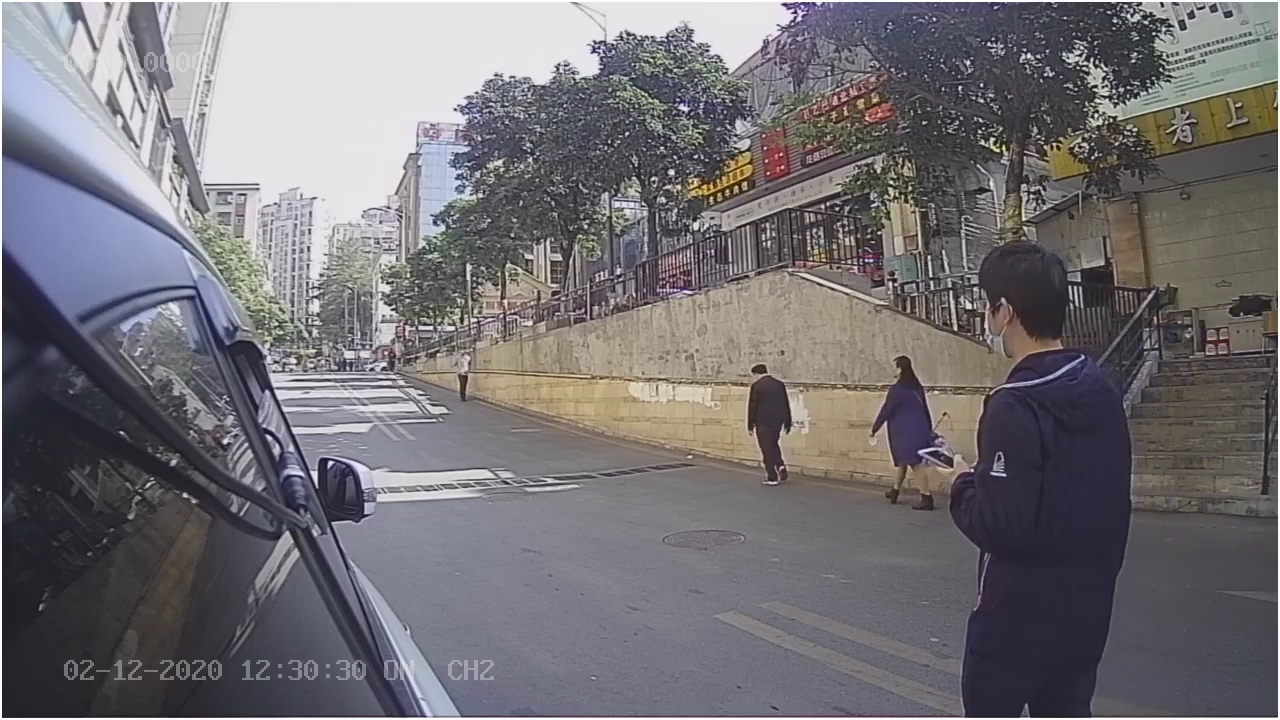person: (936, 242, 1148, 522), (728, 354, 817, 499)
